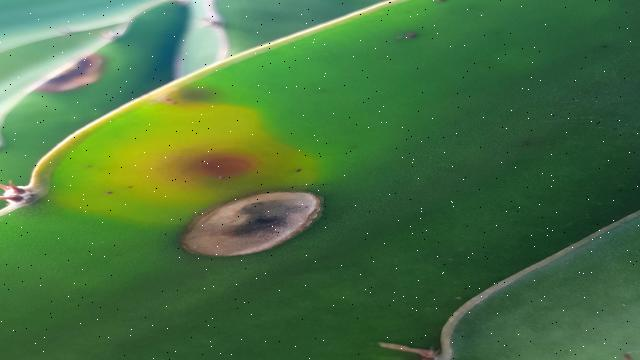stemcanker: (60, 111, 297, 188), (40, 43, 126, 96)
